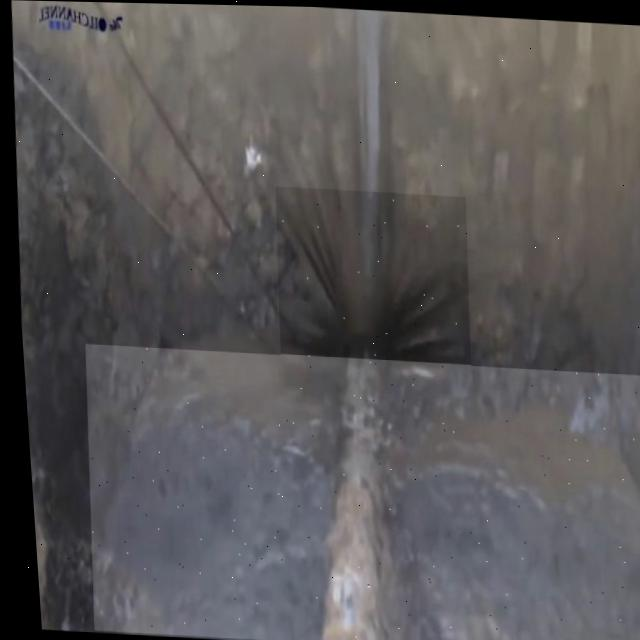spillage: (80, 343, 640, 640), (272, 185, 466, 420)
